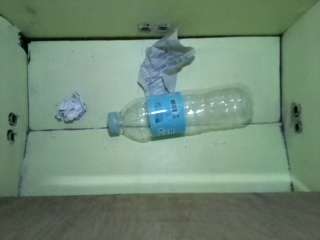bottle: (107, 82, 251, 143)
paper: (133, 25, 195, 97), (53, 90, 89, 122)
